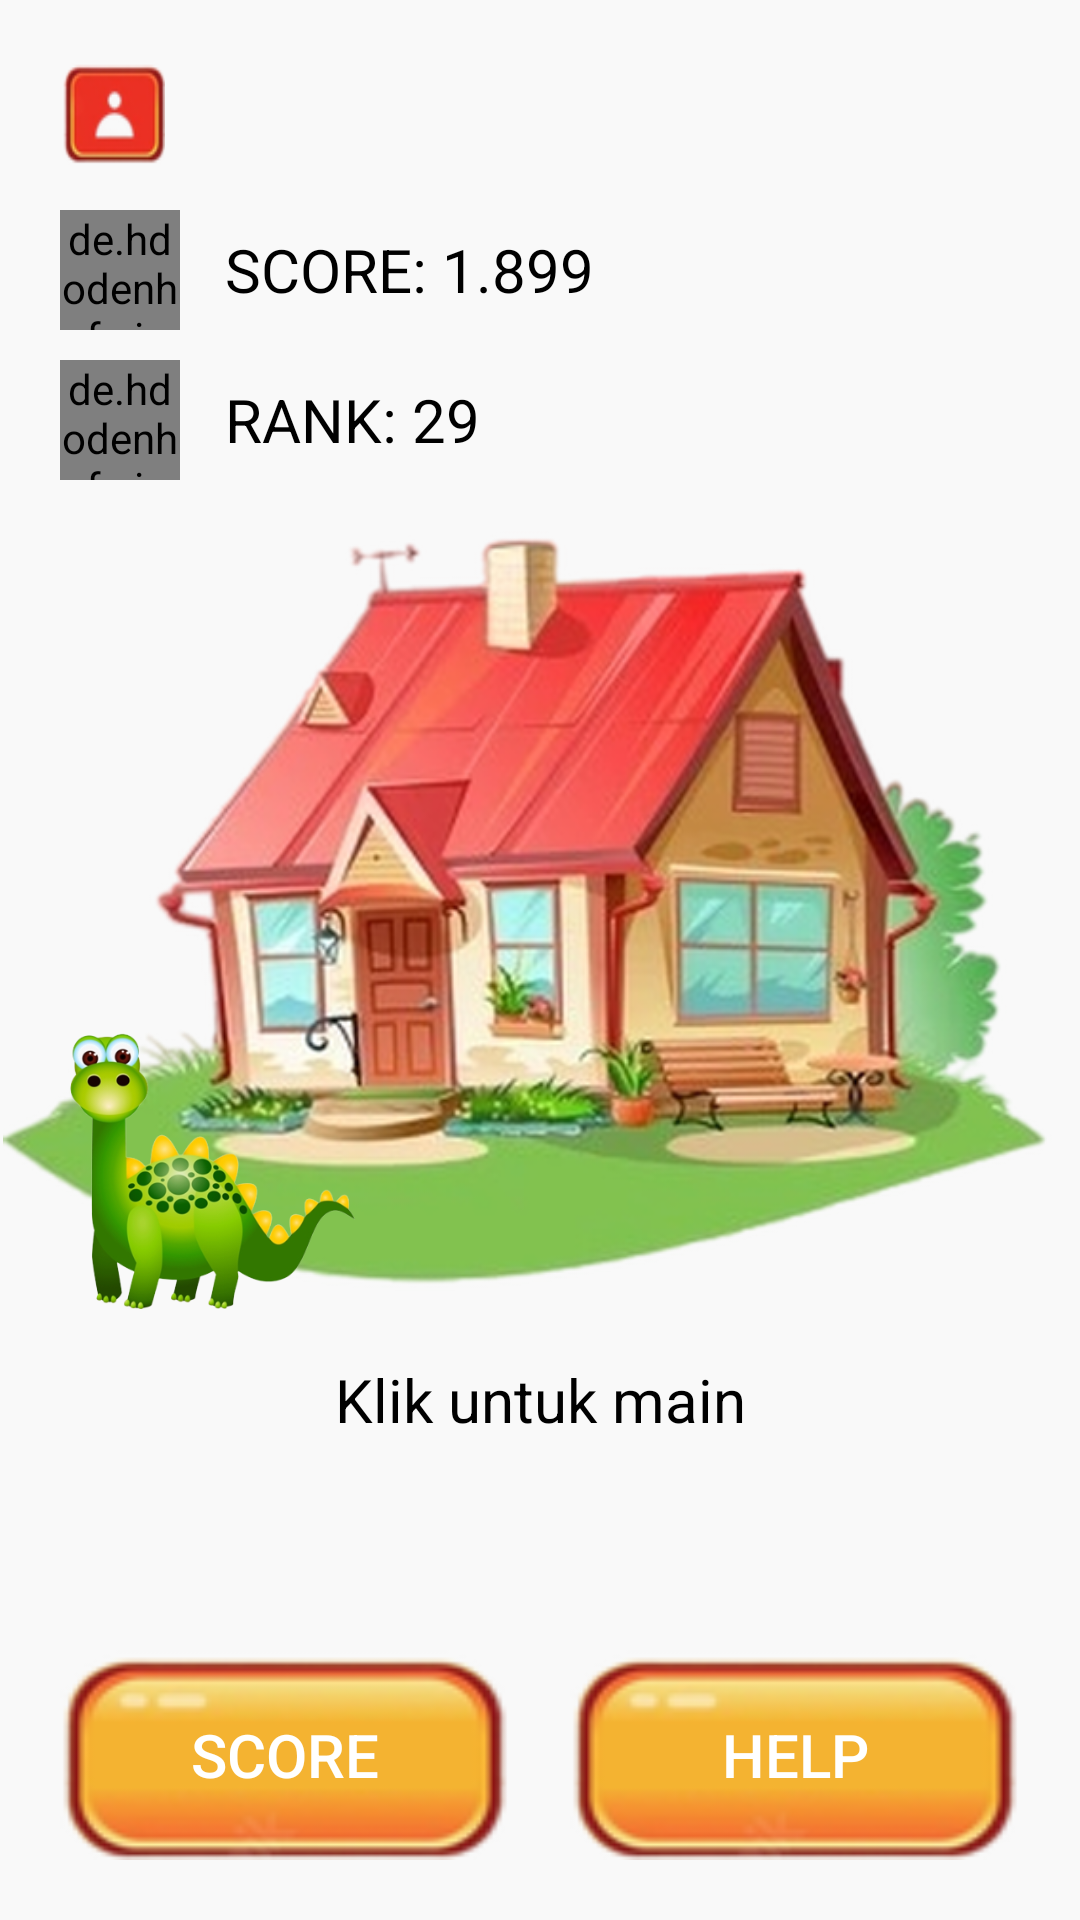

Screen size 1080 x 1920. Icon name, then its center in pixels as [x,y]:
btnuser: [114,114]
